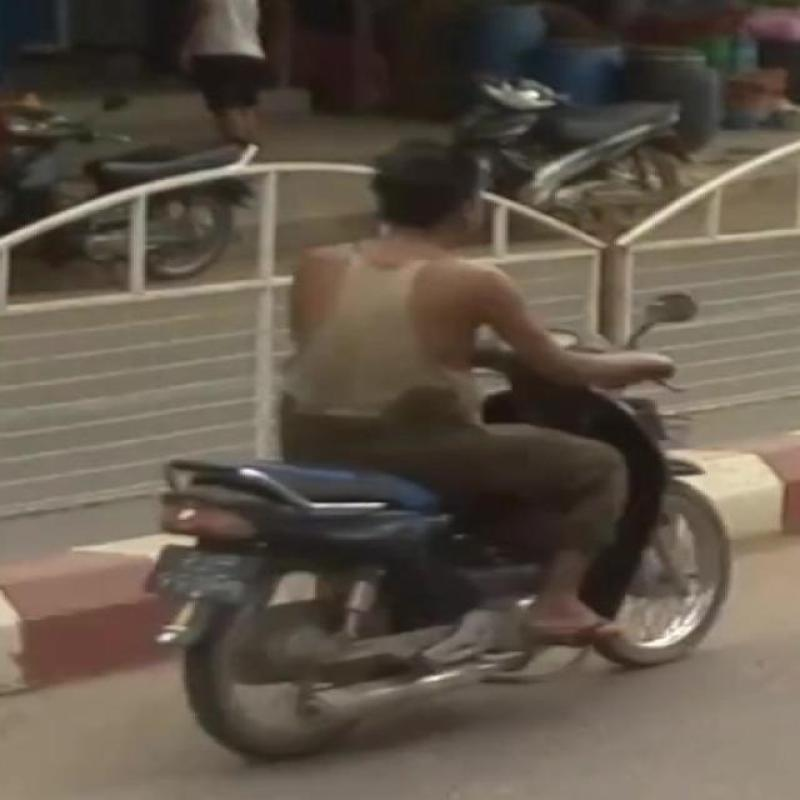nohelmet: (363, 124, 535, 258)
